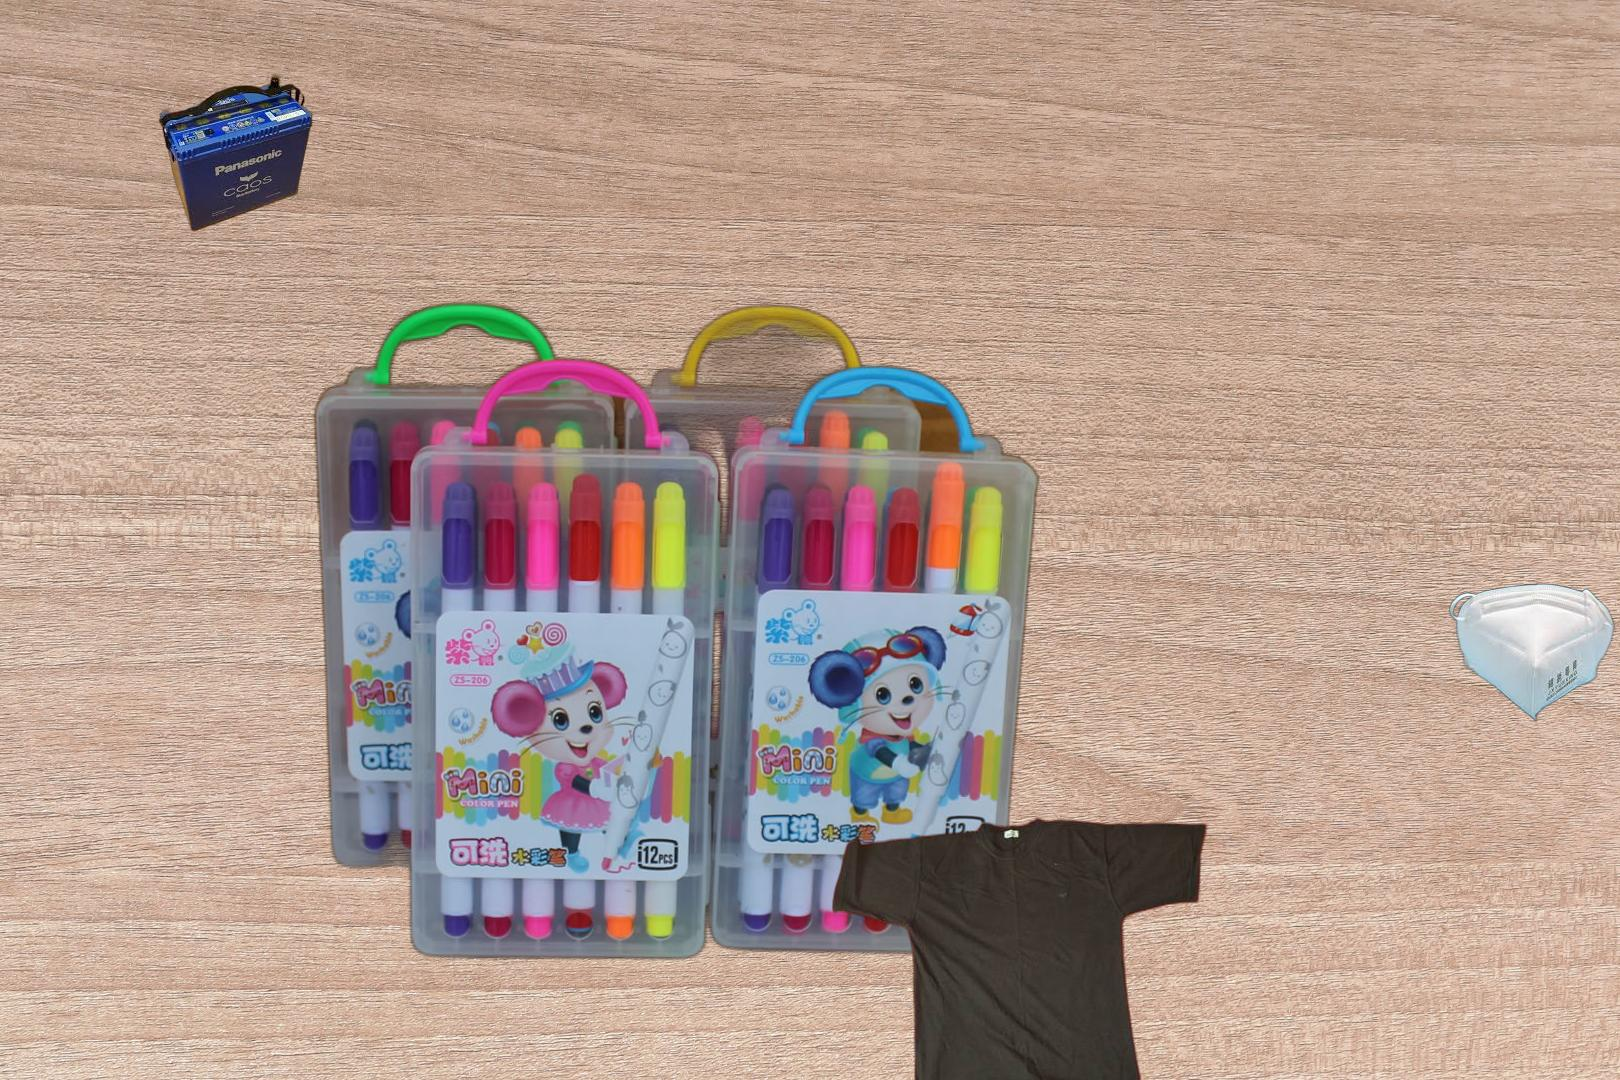battery: (155, 72, 318, 234)
clothes: (830, 814, 1210, 1080)
penholder: (309, 297, 1044, 965)
trash: (1446, 581, 1618, 726)
